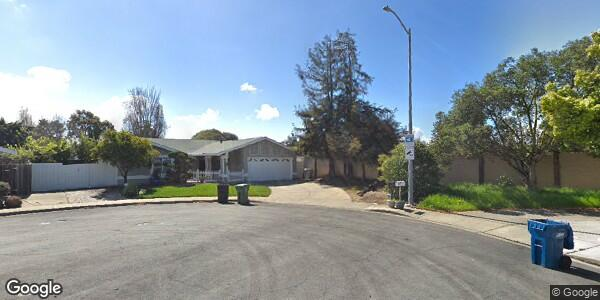Steel_Pole: (378, 2, 418, 215)
